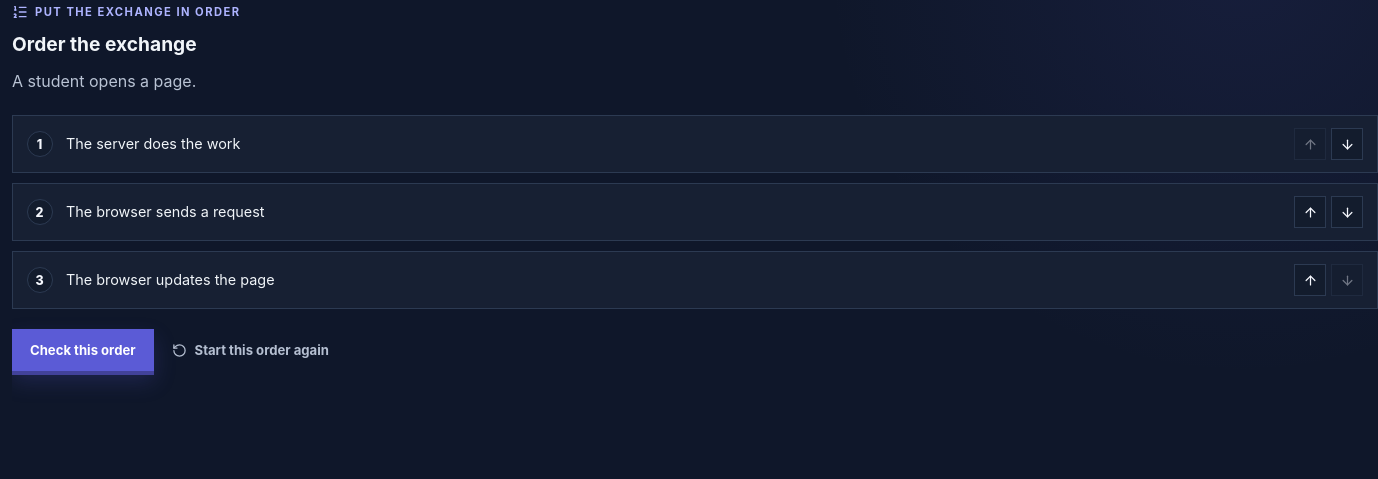
Test: SequenceOrder › completes the step once the order is correct
This screenshot has width=1378, height=479.
Click the button named "Move \"The browser sends a request\" earlier": click(1310, 212) x1=1294 y1=196 x2=1326 y2=228
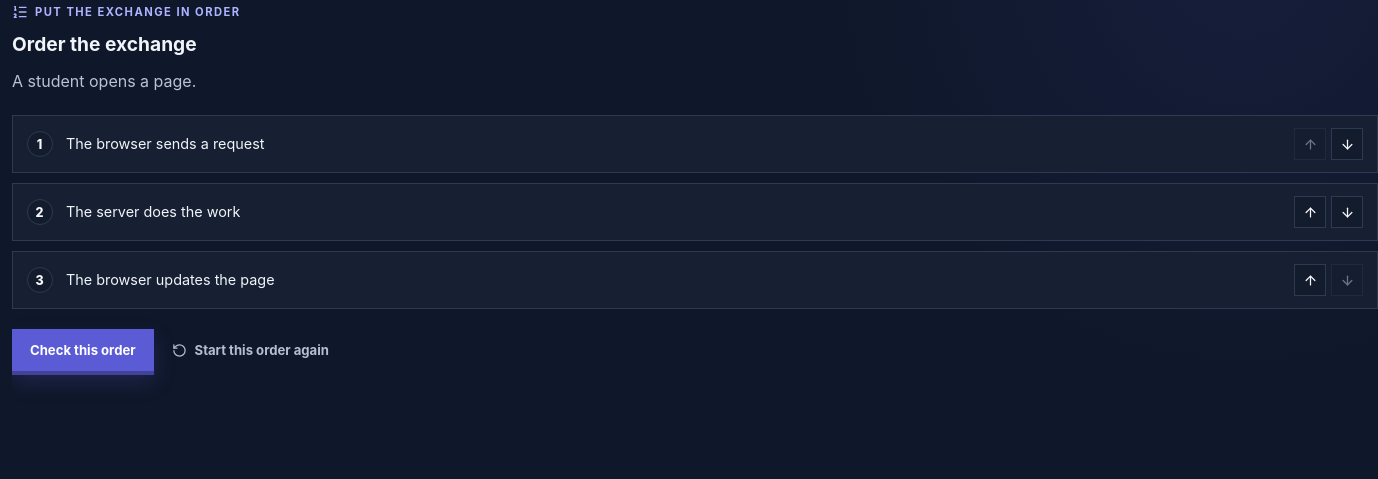
Click the button "Check this order": click(83, 350) x1=12 y1=329 x2=154 y2=371
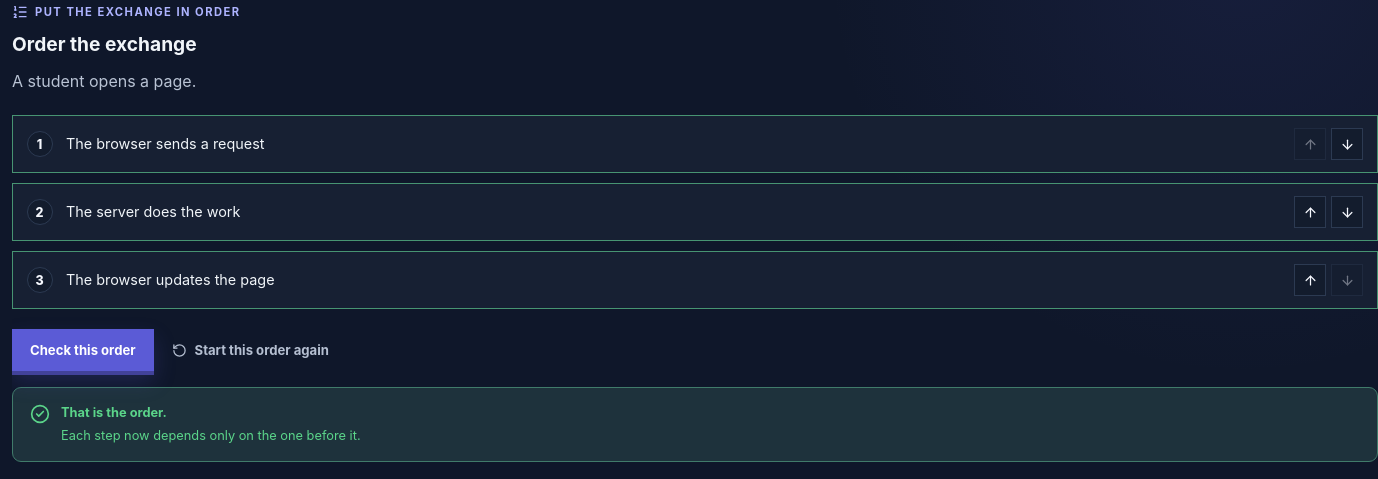
Check: the message shows "That is the order.", box x1=61 y1=405 x2=167 y2=420
